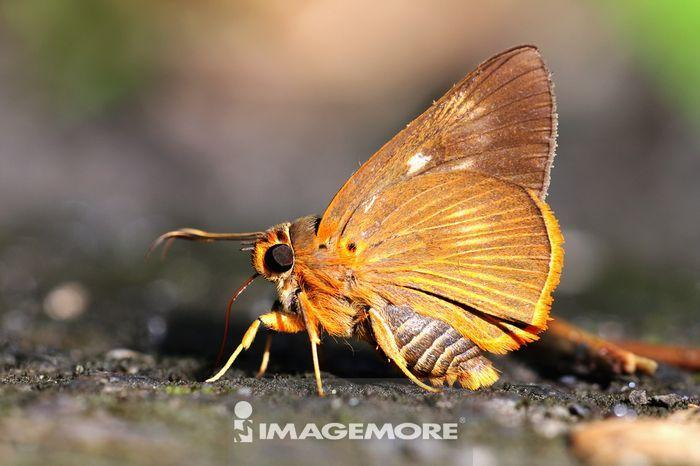Hesperiidae: (150, 44, 567, 386)
